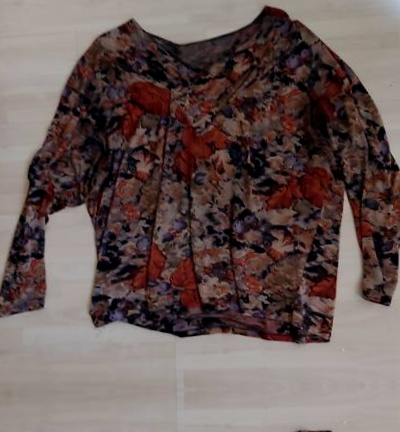Blouse: (0, 0, 400, 358), (0, 421, 400, 432), (0, 431, 3, 432)
